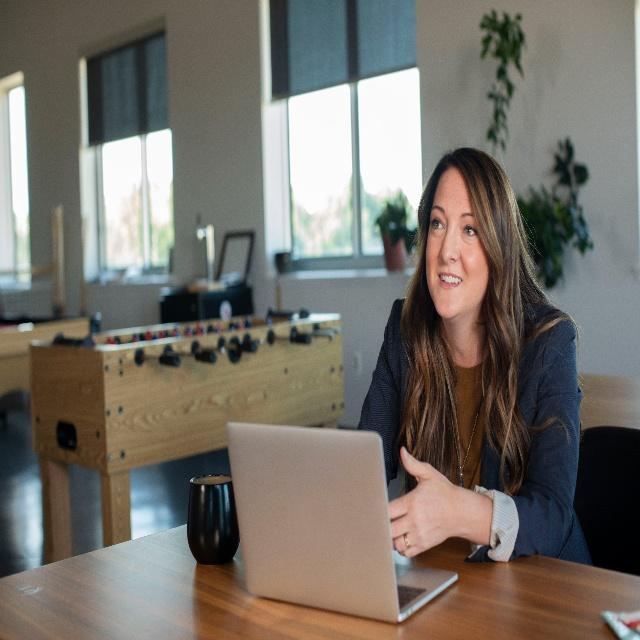Sin_guantes: (386, 446, 454, 559)
